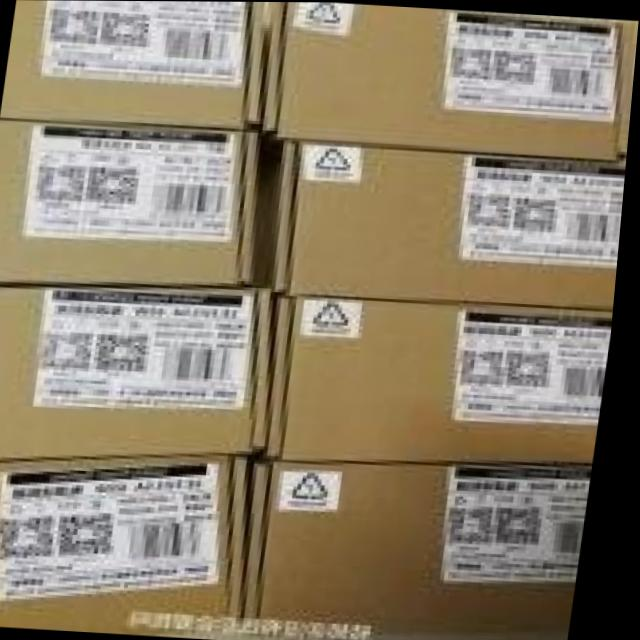box: (255, 135, 629, 311), (253, 462, 601, 632), (273, 293, 618, 462), (261, 2, 630, 160), (0, 283, 278, 463), (0, 462, 260, 633), (0, 121, 260, 288), (5, 0, 267, 132)
